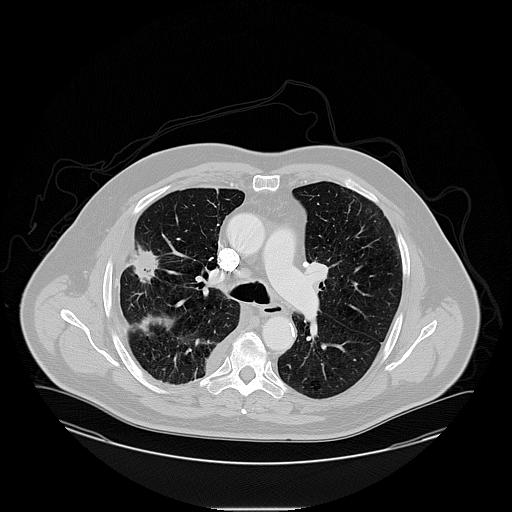nodule: (130, 251, 161, 282)
